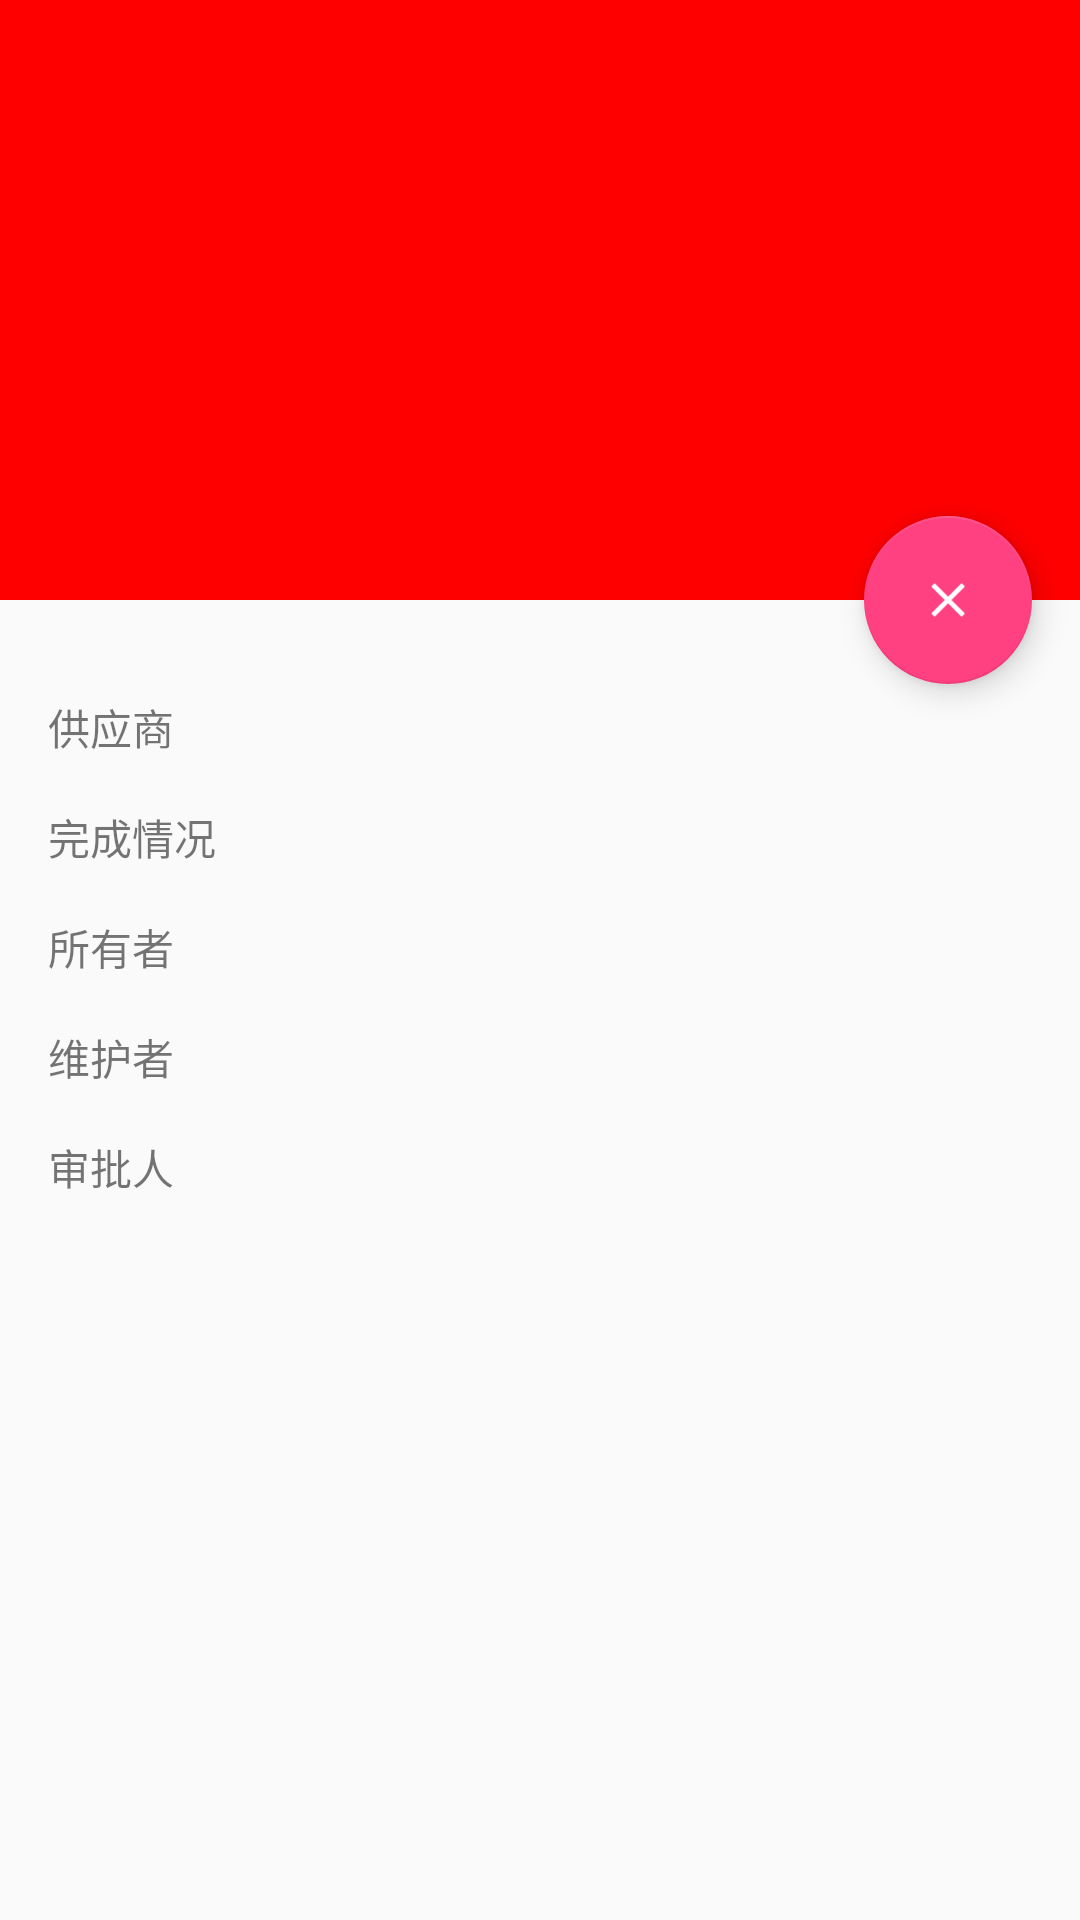

Point at icon controls on the screen. Image size 1080w x 1920h, points as (x=x, y=y).
cancle: (x=948, y=600)
